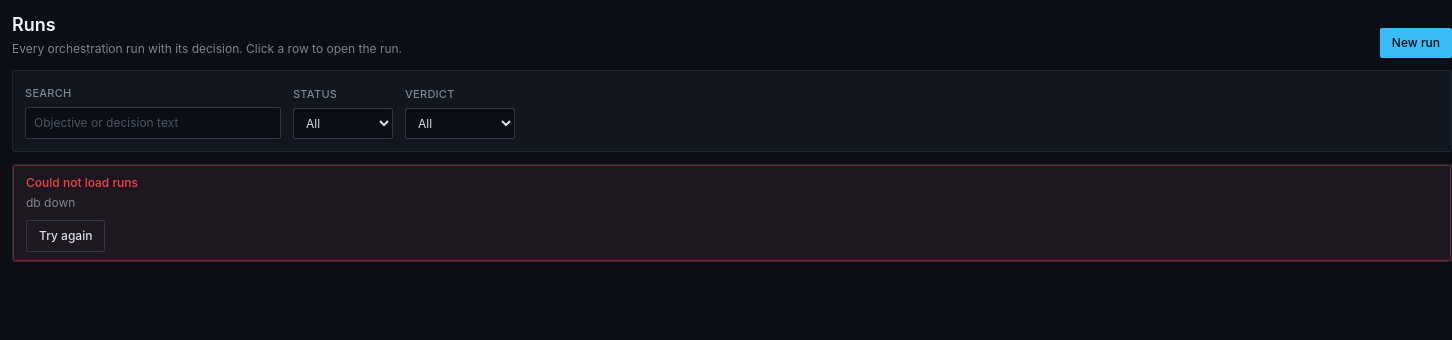
Test: RunsPage › shows an error with retry
Expected: the message shows "db down", [26,195,75,210]
Click the button "Try again" at (66, 236), box [26,220,105,252]
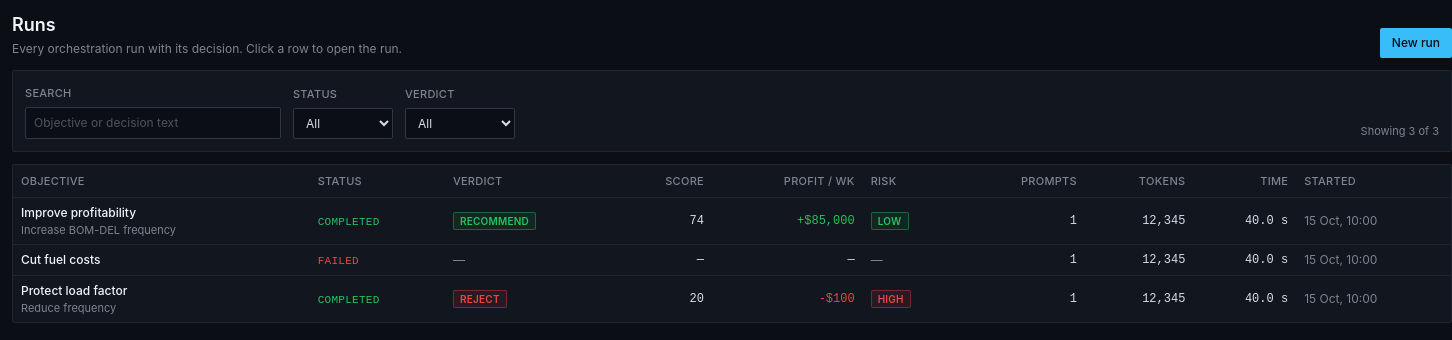
Now the table with test id "runs-table" is shown, box [13,165,1451,322]
